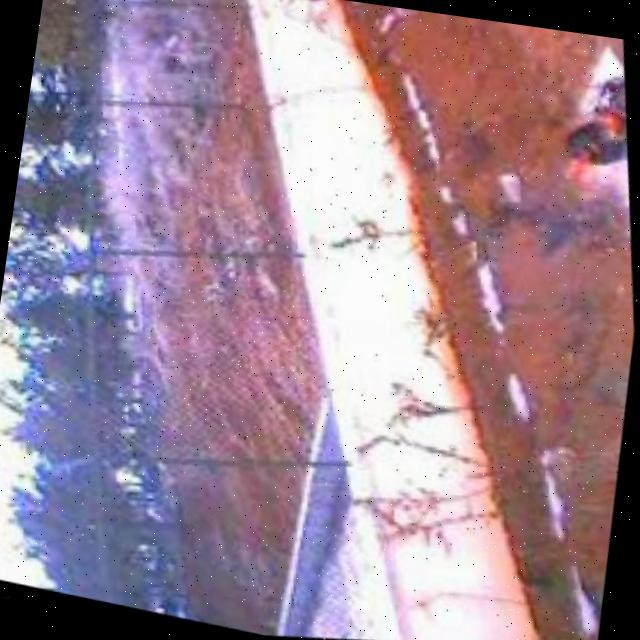fire: (537, 73, 640, 216)
